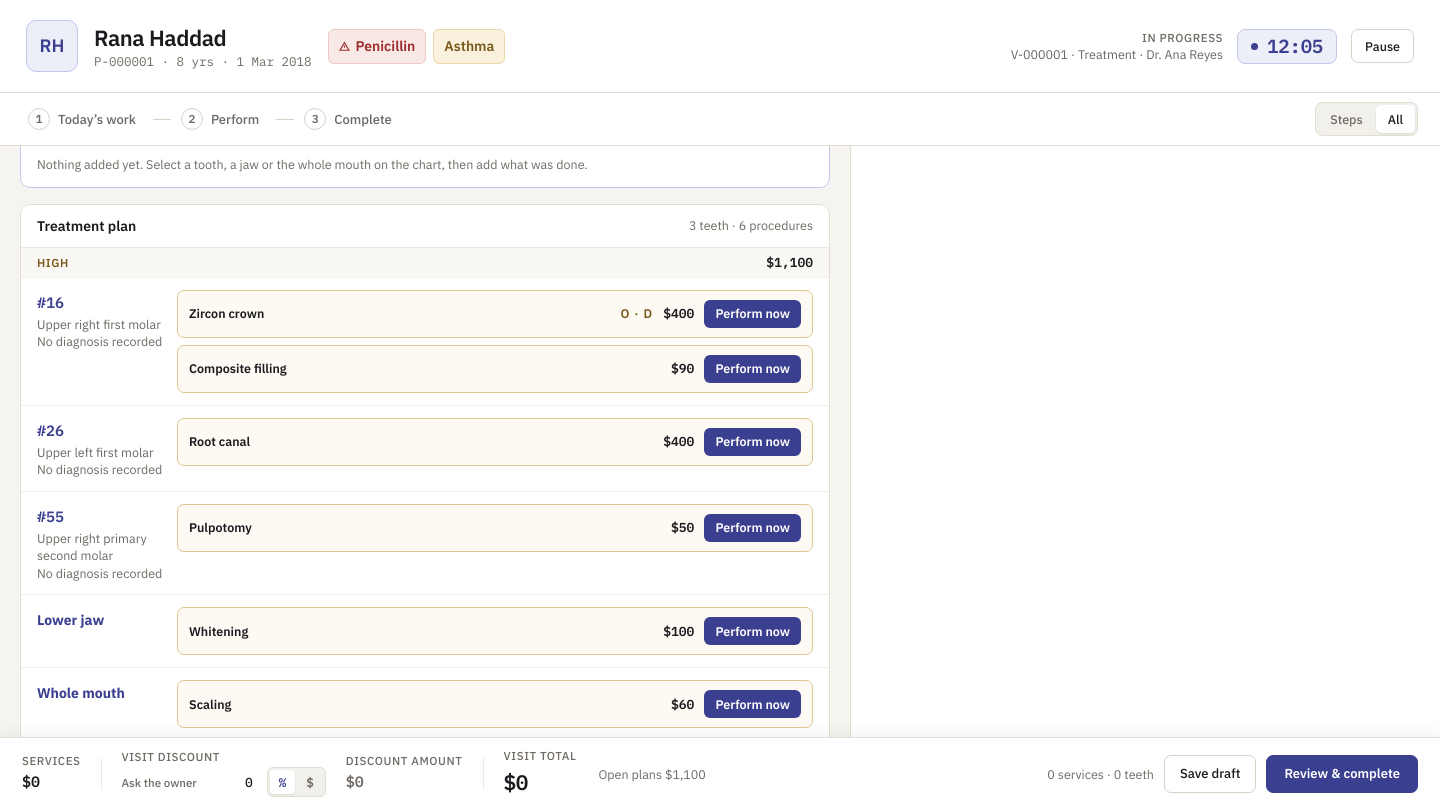
Test: PlanBoard › Perform now performs the plan through the tooth panel’s action, with its Undo toast
(page scrolled)
Step 1. Click the button with aria-label "Perform now: Root canal" → [753, 442], box [704,428,801,456]
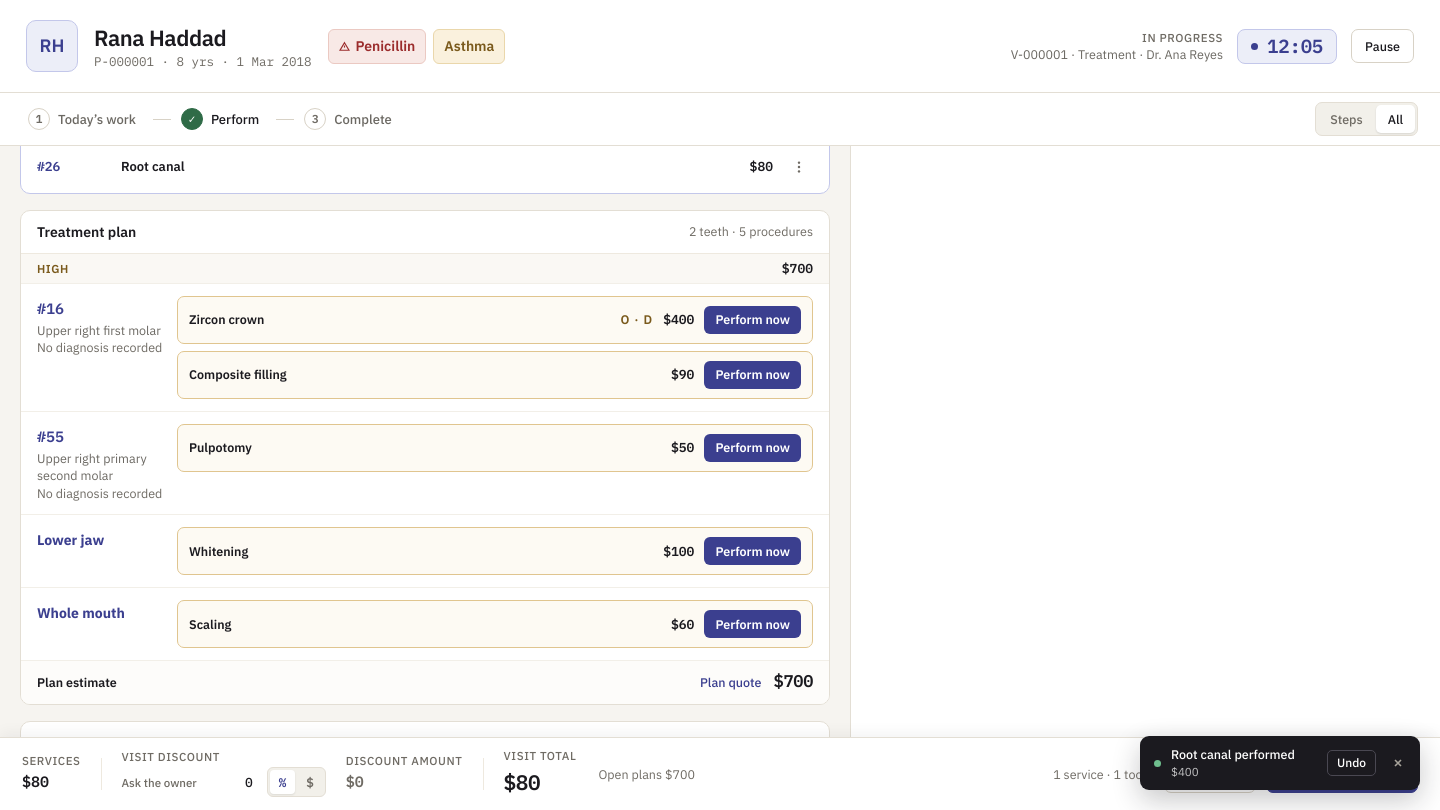
Check: the text "Root canal performed" is shown, box [1171,746,1295,762]
Check: the button "Undo" is shown, box [1327,750,1376,776]
Check: the text "2 teeth · 5 procedures" is shown, box [689,225,813,238]
